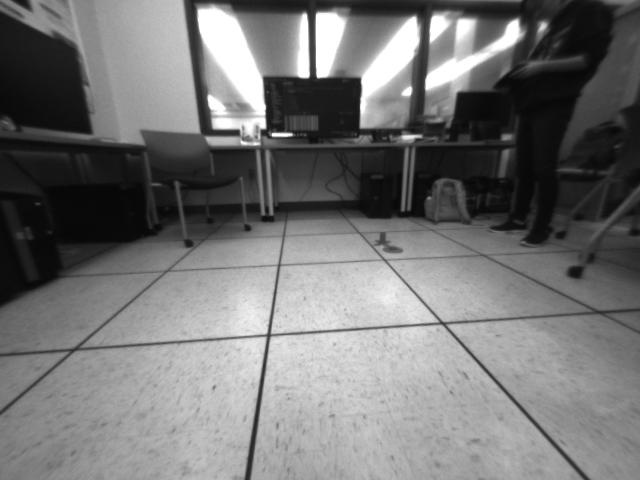X: (373, 231, 390, 248)
